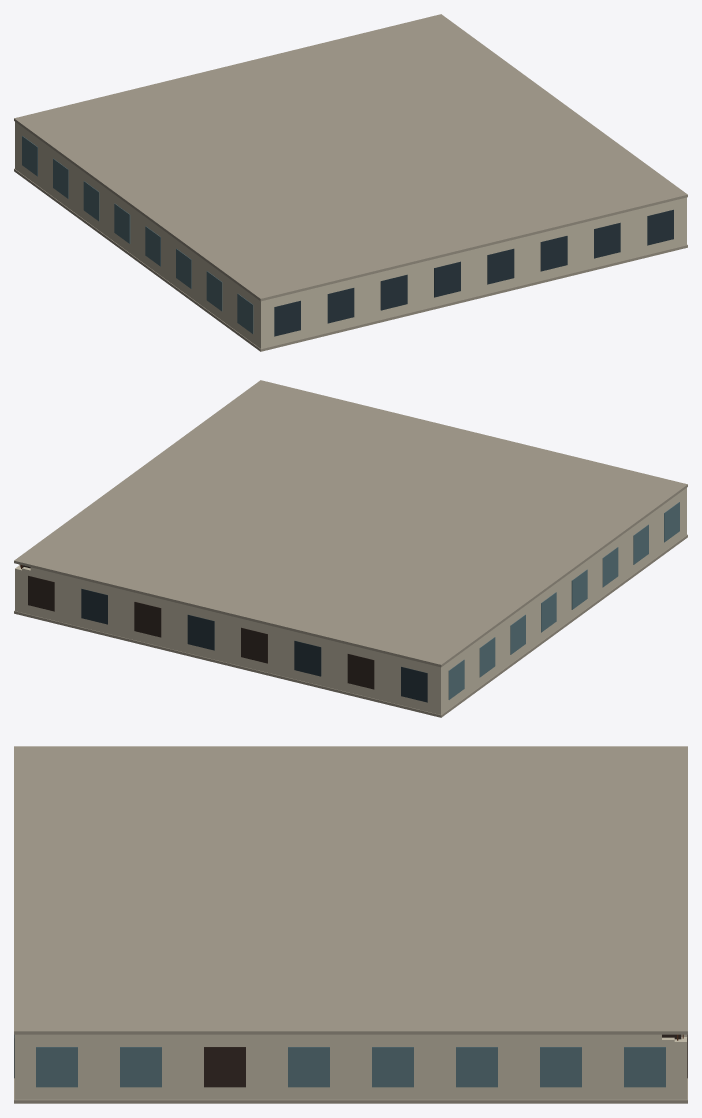
The model's file is tw_stone_32_floor_c_lod1.glb.
3 views of the same model, one above another, from view 1: azimuth 30°, elevation 25°; view 2: azimuth 150°, elevation 25°; view 3: azimuth 270°, elevation 25° (orthographic). The views are drawn at different scales.
Visible parts, largest first — view 1: tw_stone_32_floor_c_lod1; view 2: tw_stone_32_floor_c_lod1; view 3: tw_stone_32_floor_c_lod1.
Boxes of the visible parts, x1,y1,x2,y2 form: tw_stone_32_floor_c_lod1: [14, 14, 687, 351]; tw_stone_32_floor_c_lod1: [14, 380, 687, 717]; tw_stone_32_floor_c_lod1: [14, 746, 687, 1103].
Size of the model in its own units: 32.08 by 3.8 by 32.08.
2 materials, 2 textured.
